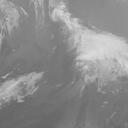cyclone: (55, 16, 127, 87)
